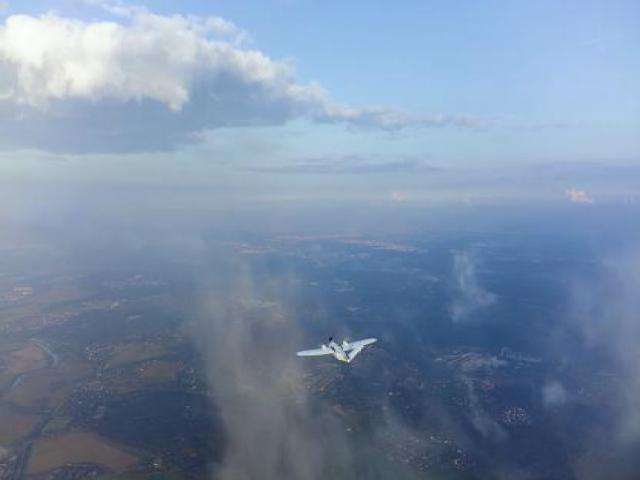uav: (296, 335, 378, 364)
